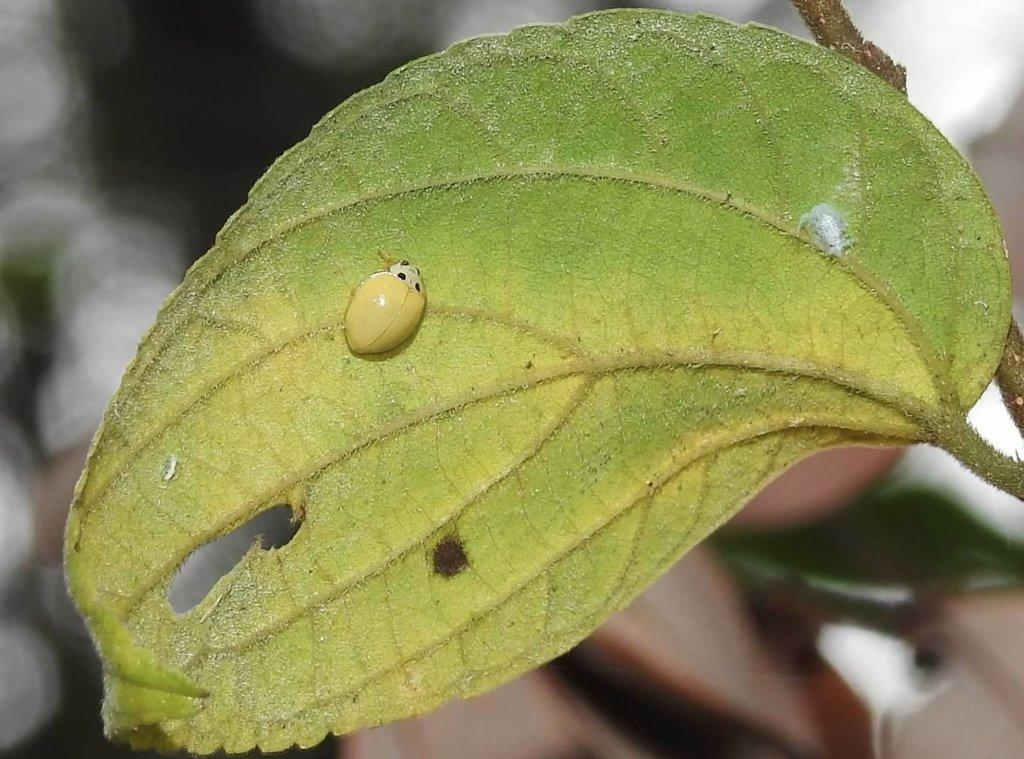ladybug: (337, 243, 435, 361)
